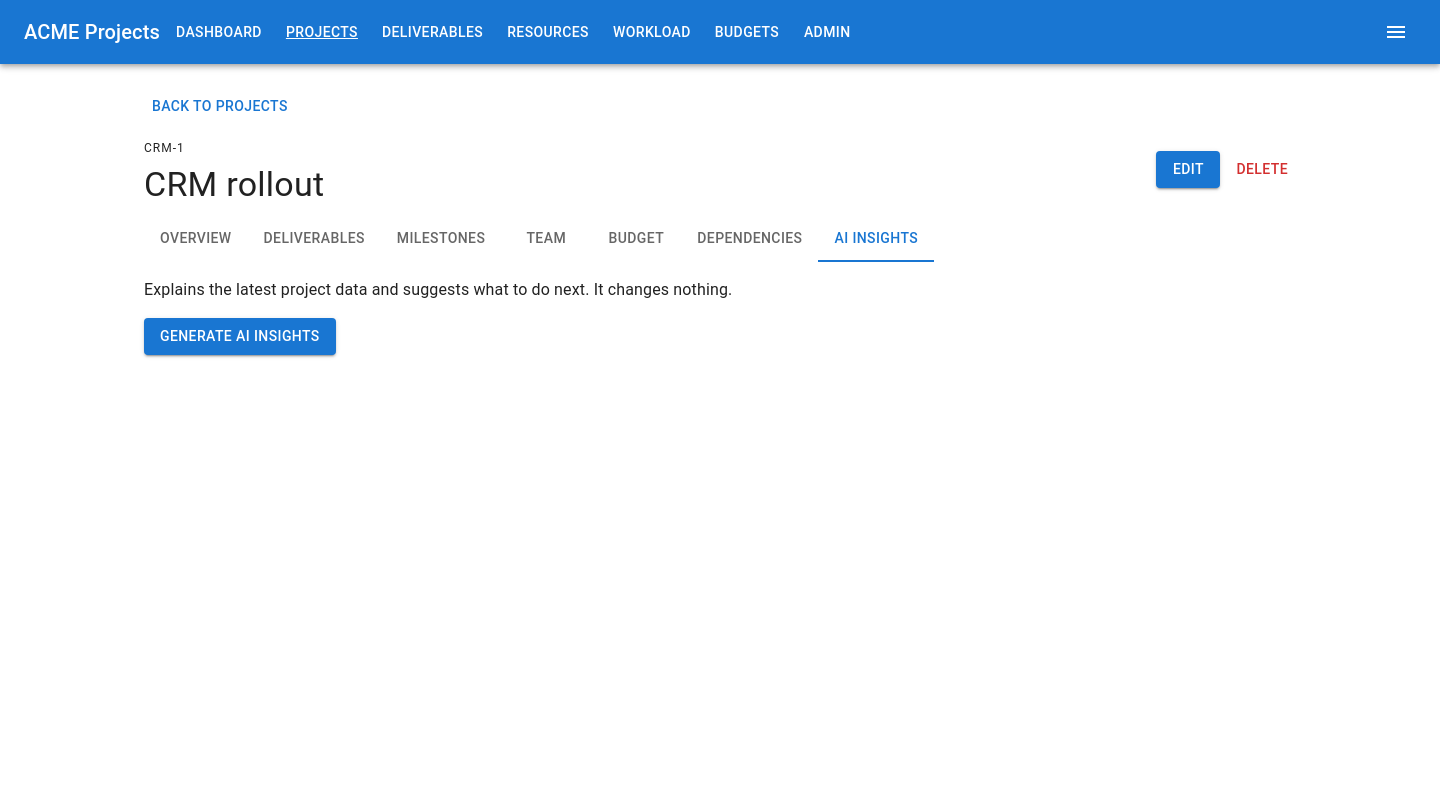
Test: AI insights › does not keep old insights when a new request fails
This screenshot has width=1440, height=801.
Click the button "Generate AI Insights" at (240, 337), box [144, 318, 336, 355]
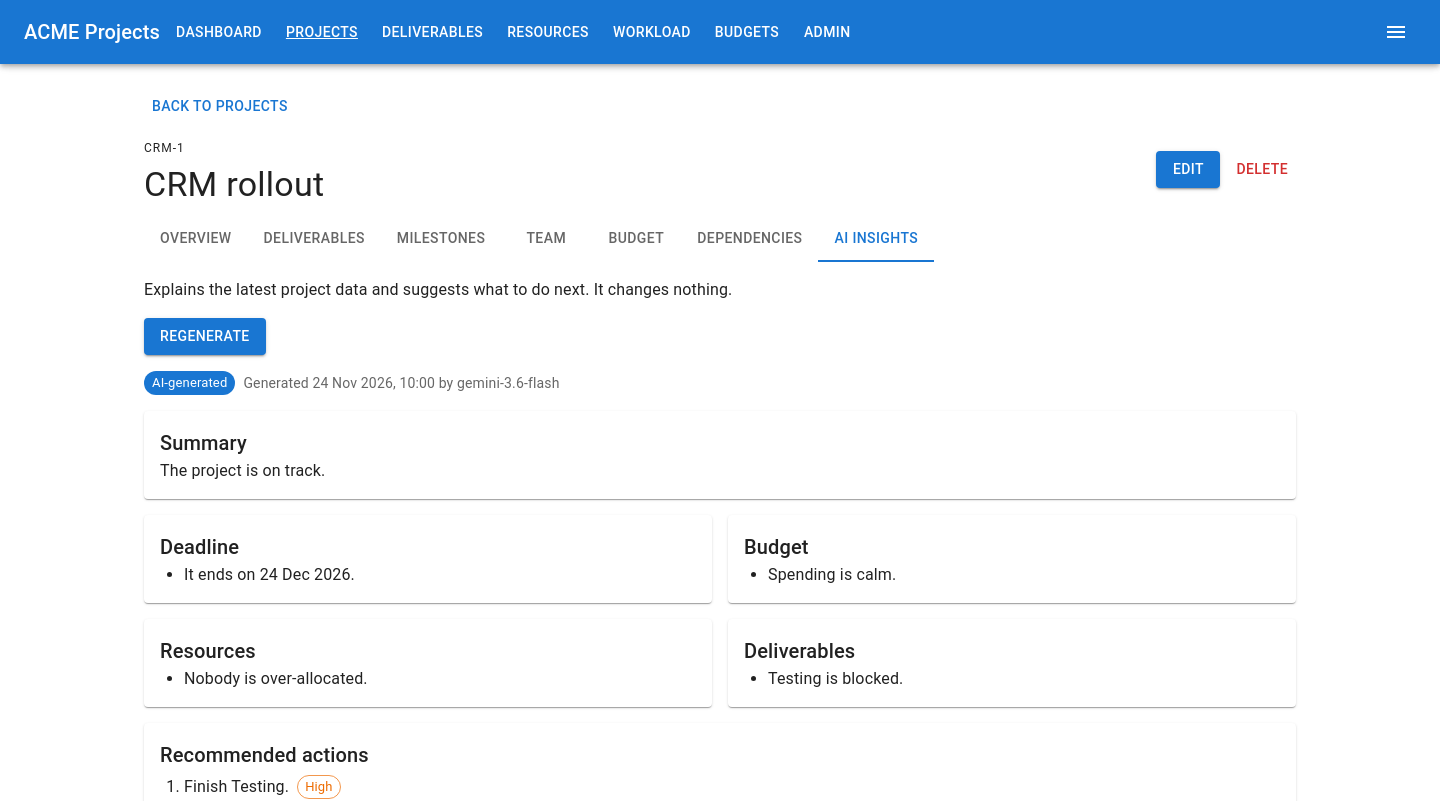
Check: the text "AI-generated" is shown, box [152, 375, 227, 390]
Click the button "Regenerate" at (205, 337), box [144, 318, 266, 355]
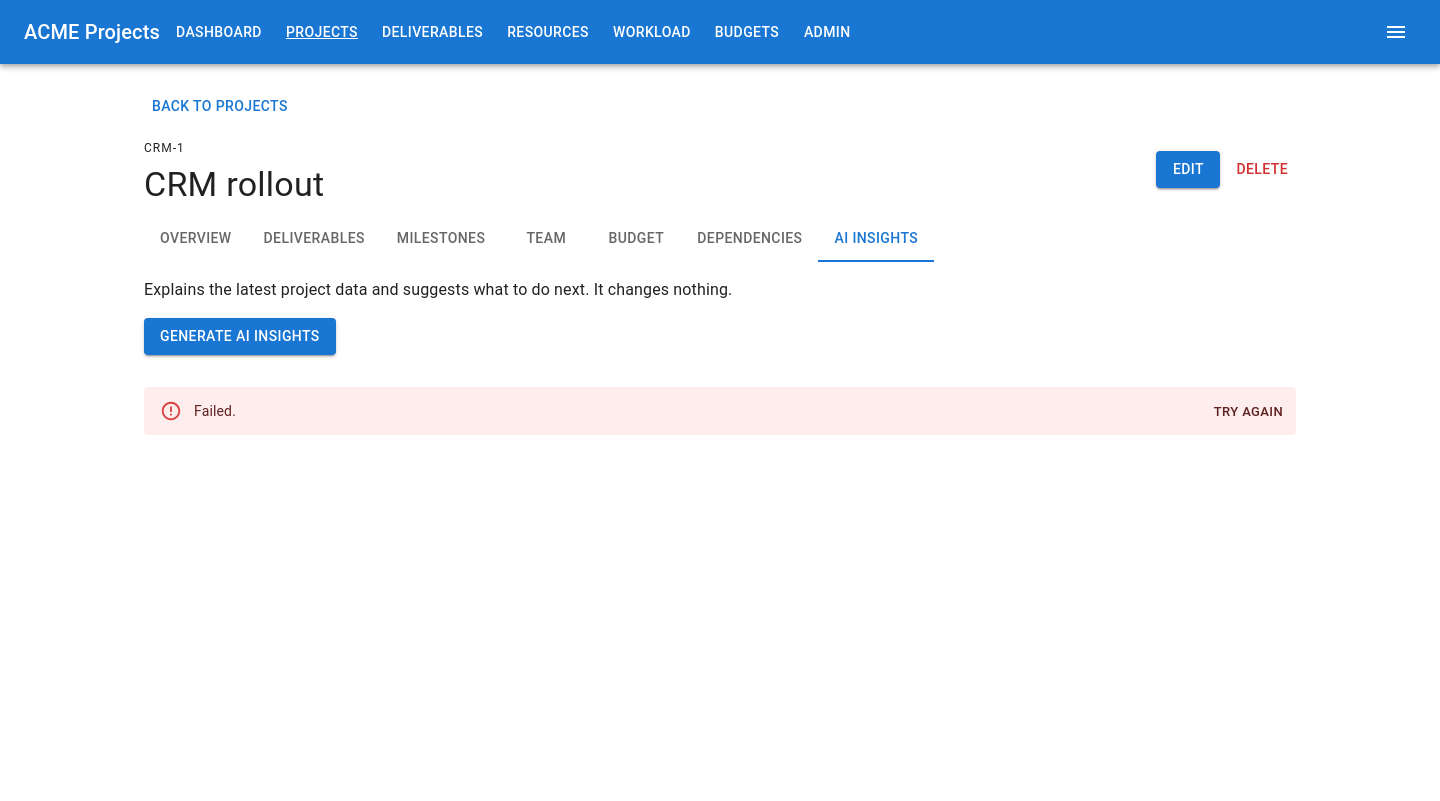
Check: the text "Failed." is shown, box [194, 403, 236, 419]
Check: the text "The project is on track." is gone
